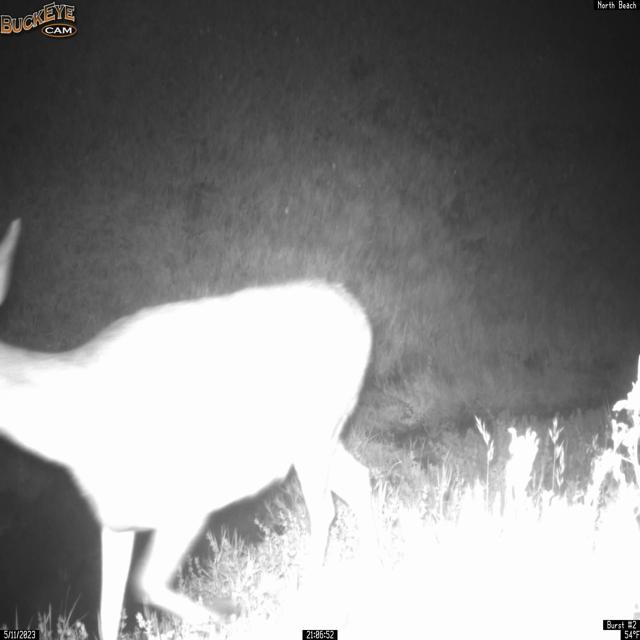deer: (0, 217, 382, 640)
